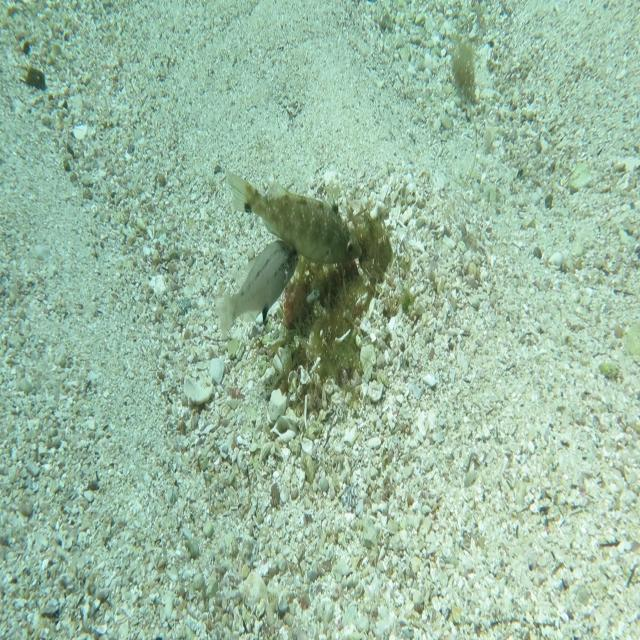INSF: (227, 169, 362, 267)
female: (218, 237, 299, 346)
nest: (274, 189, 410, 427)
